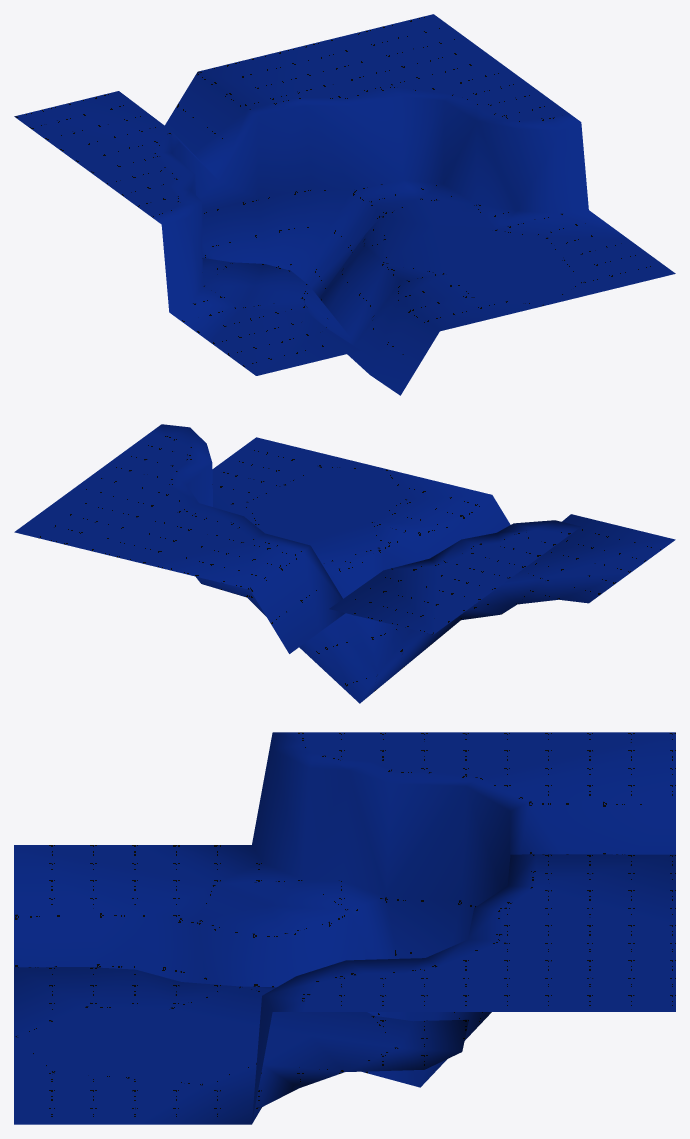
File: GRD_S_C1_R1_2.fbx
The picture shows the model from 3 angles, top to bottom: view 1: azimuth 30°, elevation 25°; view 2: azimuth 150°, elevation 25°; view 3: azimuth 270°, elevation 25°; orthographic projection. The views are drawn at different scales.
Visible parts, largest first — view 1: material_00012000, material_00042000, material_C0032000, material_C0022000; view 2: material_00012000, material_C0032000, material_C0022000, material_00042000; view 3: material_00012000, material_00042000, material_C0032000, material_C0022000.
Boxes of the visible parts, x1,y1,x2,y2 form: material_00012000: [14, 14, 675, 375]; material_00042000: [150, 86, 588, 312]; material_C0032000: [165, 72, 439, 395]; material_C0022000: [203, 198, 584, 308]; material_00012000: [14, 432, 675, 634]; material_C0032000: [247, 495, 510, 703]; material_C0022000: [245, 466, 543, 605]; material_00042000: [150, 424, 580, 570]; material_00012000: [14, 732, 675, 1124]; material_00042000: [252, 732, 536, 1122]; material_C0032000: [14, 801, 675, 1087]; material_C0022000: [14, 880, 399, 1085].
Size of the model in its own units: 12800 by 5200 by 12800.
